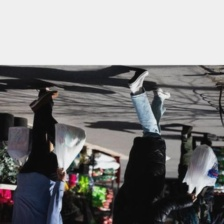plastic_bag: (178, 142, 220, 198), (49, 122, 89, 174), (4, 124, 36, 168)
